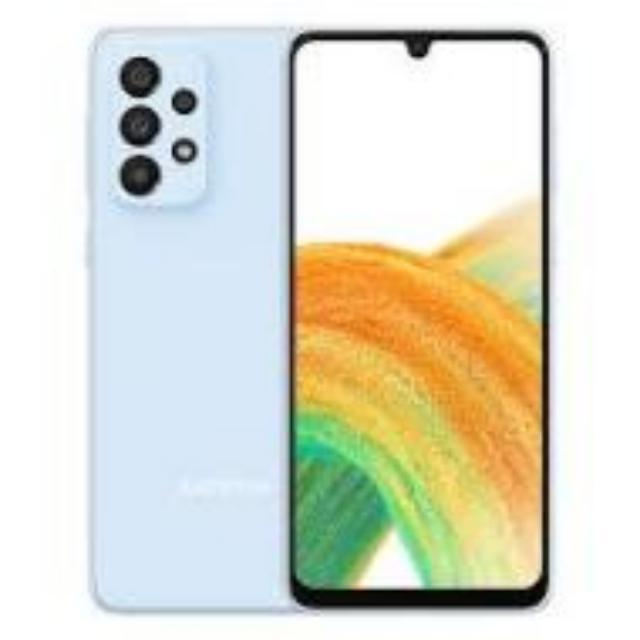Phone: (293, 29, 549, 611), (86, 26, 292, 614)
